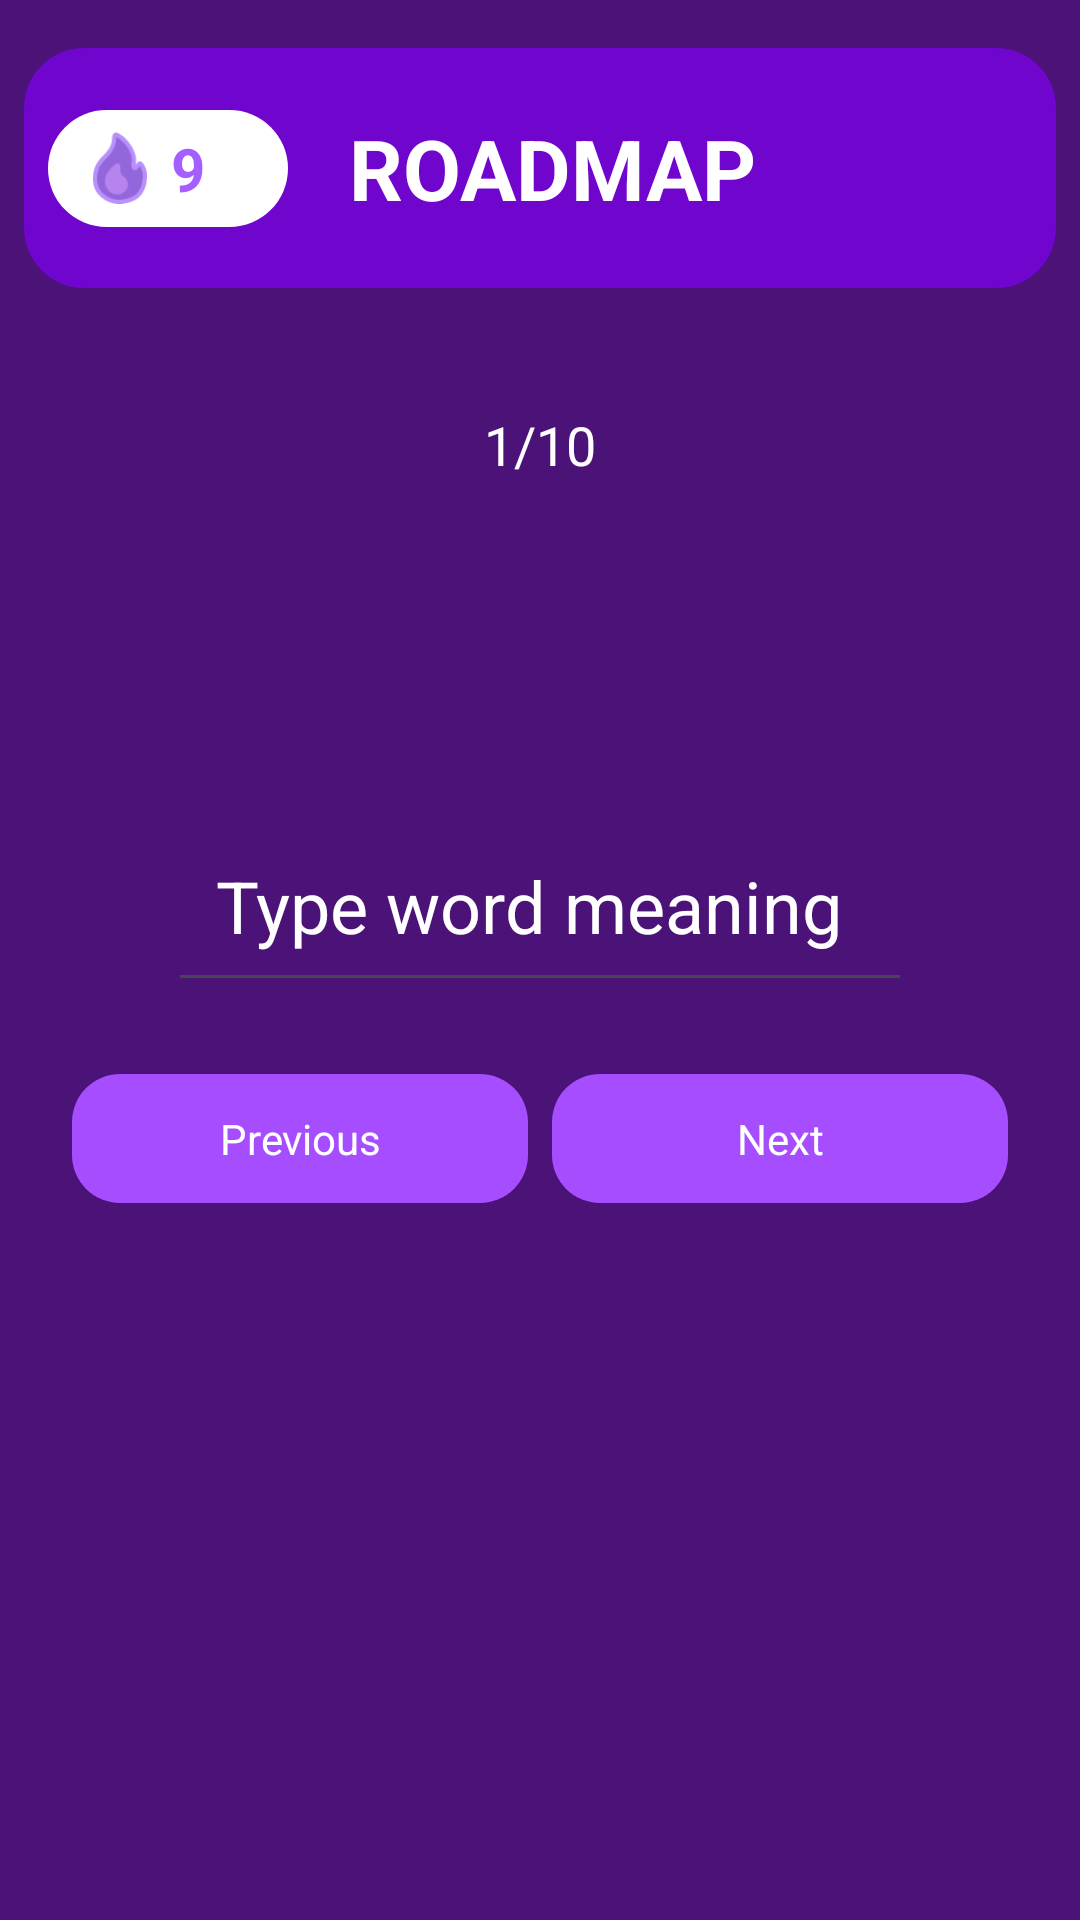

Where icons sit on this 1080*1920 app screen, as (x1, y1, x2, y2):
rmap streak: (93, 132, 147, 204)
